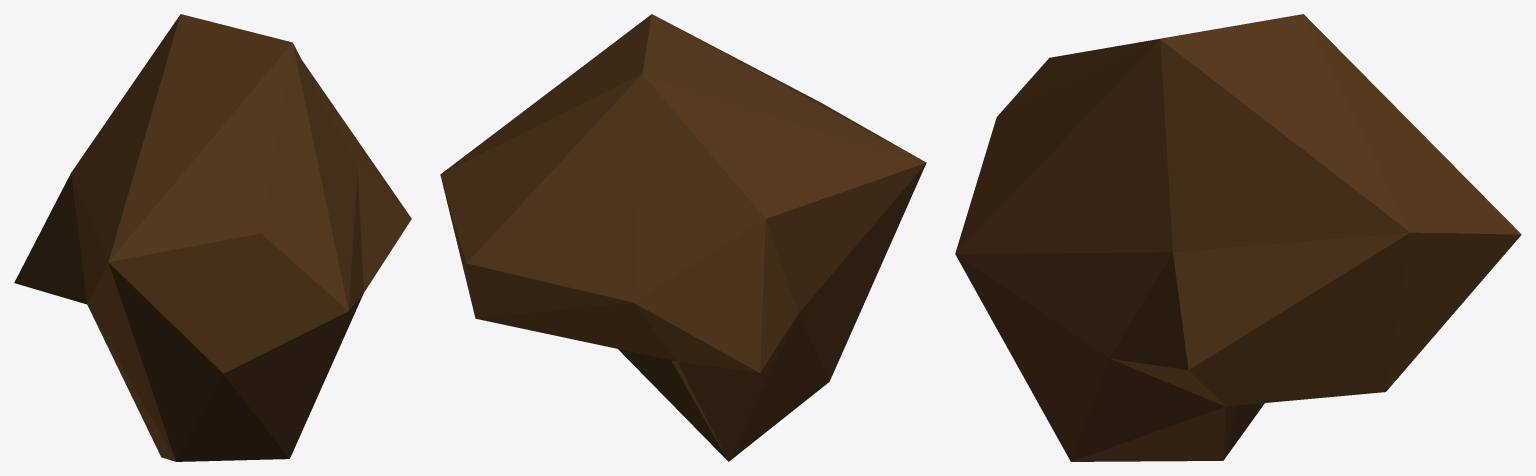
Rendered from asteroid4.fbx.
The picture shows the model from 3 angles, left to right: view 1: azimuth 30°, elevation 25°; view 2: azimuth 150°, elevation 25°; view 3: azimuth 270°, elevation 25°; orthographic projection. The views are drawn at different scales.
Parts seen in each view (by area): view 1: quickmaterial1; view 2: quickmaterial1; view 3: quickmaterial1.
Part boxes in pixels (box(x1,y1,x2,y2)): quickmaterial1: box(14, 14, 411, 461); quickmaterial1: box(440, 14, 926, 461); quickmaterial1: box(955, 14, 1521, 461).
Bounding box in the file's own units: 2.08 × 2.24 × 2.39.
